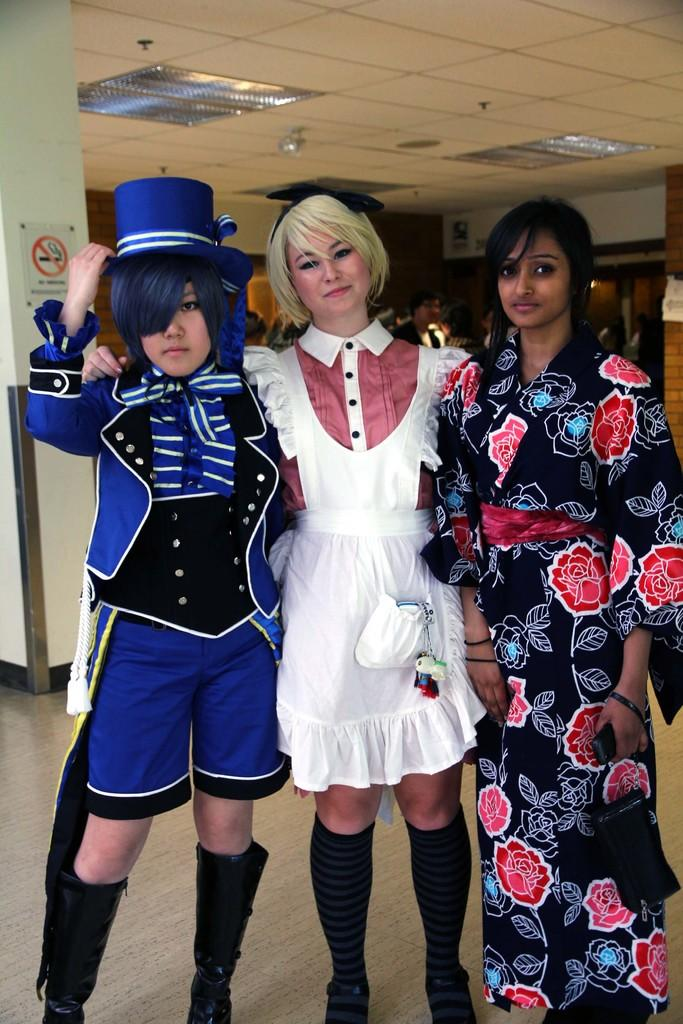Hat: (98, 174, 258, 294)
